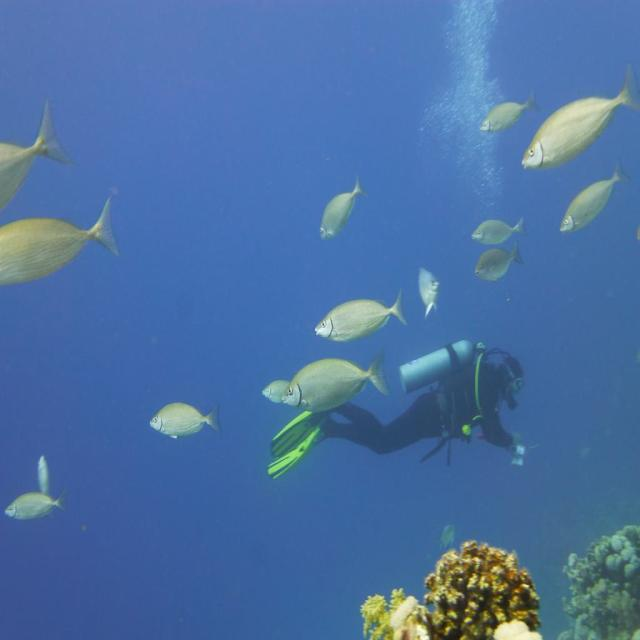Sokar Baligi: (278, 349, 396, 418), (308, 272, 411, 348), (556, 156, 637, 242), (310, 161, 370, 253), (144, 389, 224, 448)
